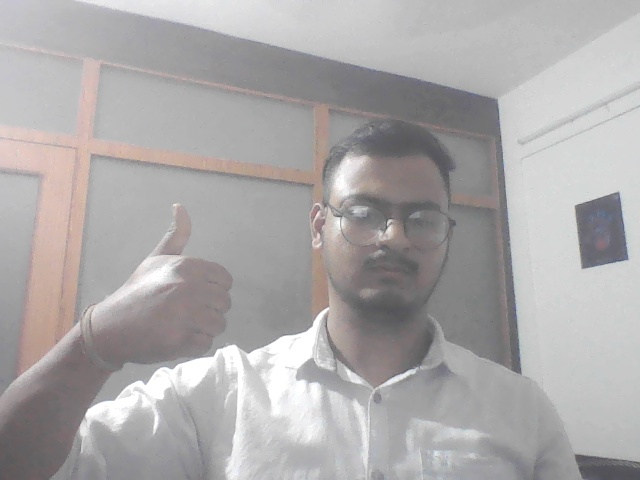Good: (99, 198, 240, 366)
